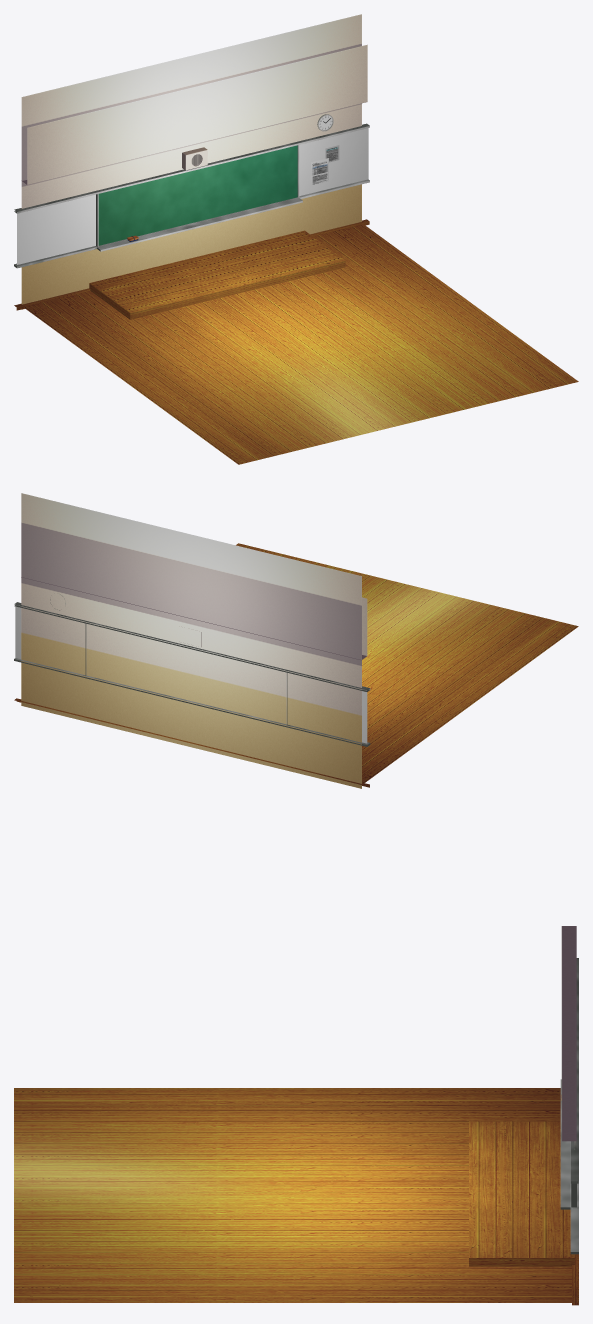
File: imitation_classroom_stage.glb
3 views of the same model, one above another, from view 1: azimuth 30°, elevation 25°; view 2: azimuth 150°, elevation 25°; view 3: azimuth 270°, elevation 25° (orthographic). The views are drawn at different scales.
Visible parts, largest first — view 1: Object_2, Object_8, Object_3, Object_9, Object_5; view 2: Object_8, Object_2, Object_5, Object_9, Object_3; view 3: Object_2, Object_9, Object_8, Object_5.
Boxes of the visible parts, x1,y1,x2,y2 form: Object_2: (23, 224, 578, 464); Object_8: (21, 14, 367, 309); Object_3: (17, 128, 368, 264); Object_9: (14, 219, 369, 319); Object_5: (14, 123, 369, 268); Object_8: (21, 493, 367, 788); Object_2: (236, 543, 578, 782); Object_5: (14, 602, 370, 746); Object_9: (14, 698, 369, 787); Object_3: (15, 604, 367, 743); Object_2: (14, 1088, 571, 1302); Object_9: (469, 1121, 578, 1305); Object_8: (561, 926, 576, 1141); Object_5: (560, 958, 578, 1254).
Bounding box in the file's own units: 1313 × 755 × 1404.
8 materials, 8 textured.
